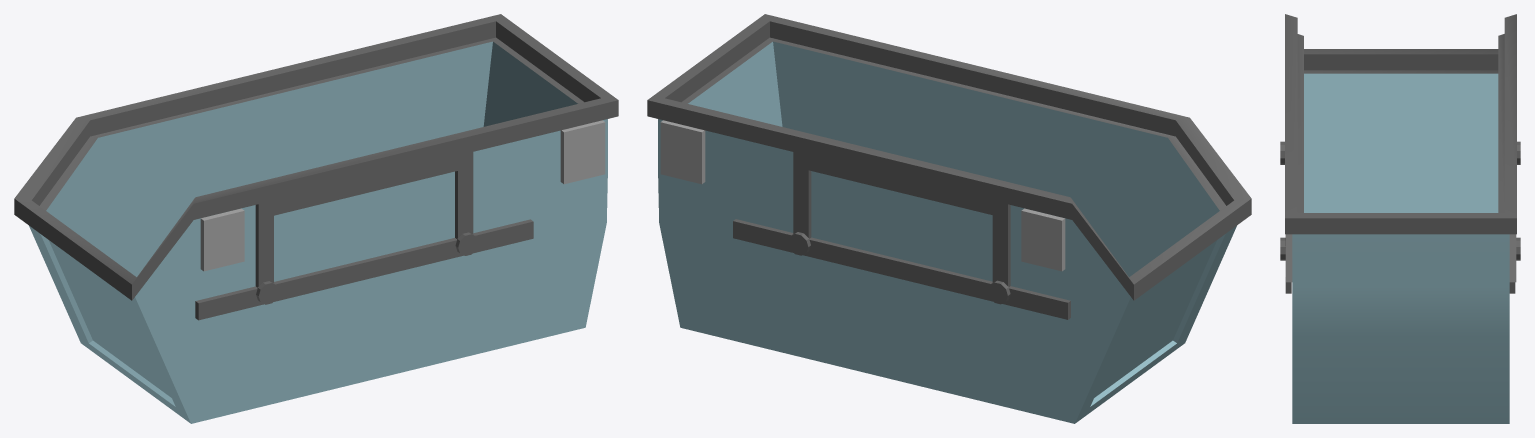
The model's file is container.fbx.
3 views of the same model, side by side, from view 1: azimuth 30°, elevation 25°; view 2: azimuth 150°, elevation 25°; view 3: azimuth 270°, elevation 25° (orthographic).
Visible parts, largest first — view 1: container; view 2: container; view 3: container.
Part boxes in pixels (left/top/right/bottom): container: left=14, top=14, right=618, bottom=423; container: left=647, top=14, right=1251, bottom=423; container: left=1280, top=14, right=1520, bottom=423.
Size of the model in its own units: 4.34 by 1.9 by 1.88.
